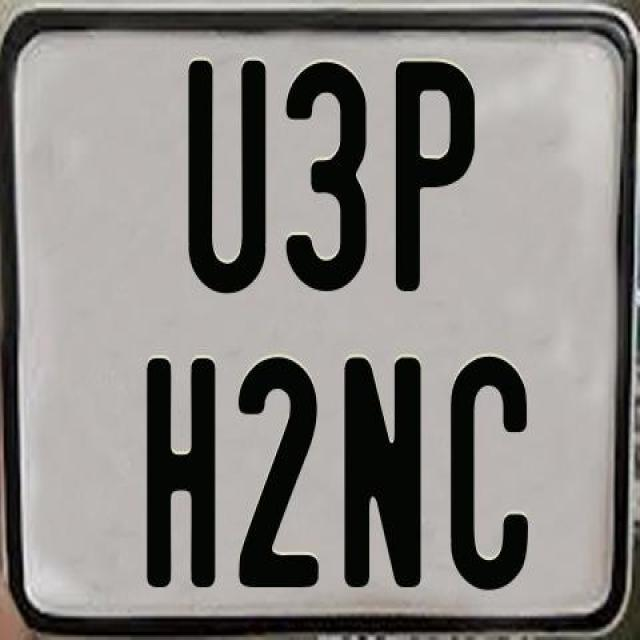2: (238, 357, 322, 596)
3: (282, 58, 372, 288)
C: (448, 356, 527, 594)
H: (142, 353, 212, 592)
N: (341, 353, 418, 588)
P: (393, 56, 479, 288)
U: (184, 58, 266, 299)
